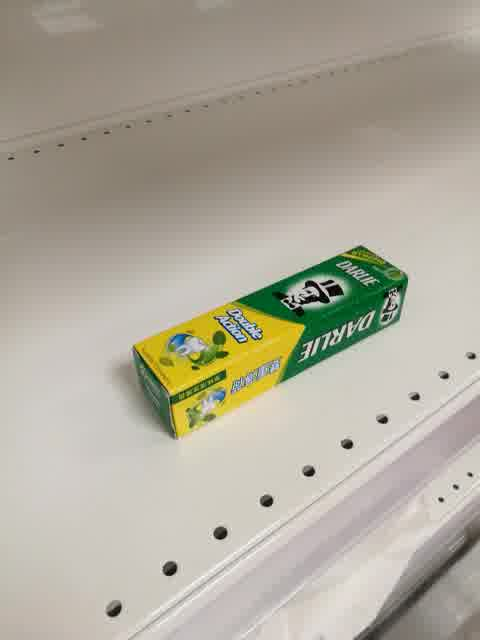toothpaste: (133, 244, 412, 443)
